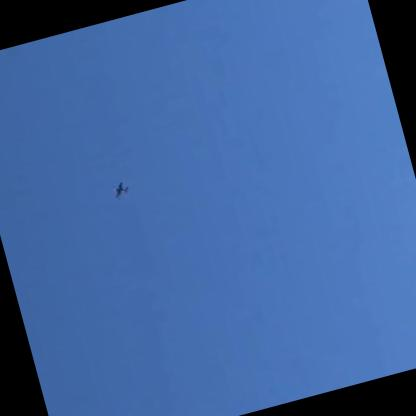plane: (109, 177, 131, 200)
